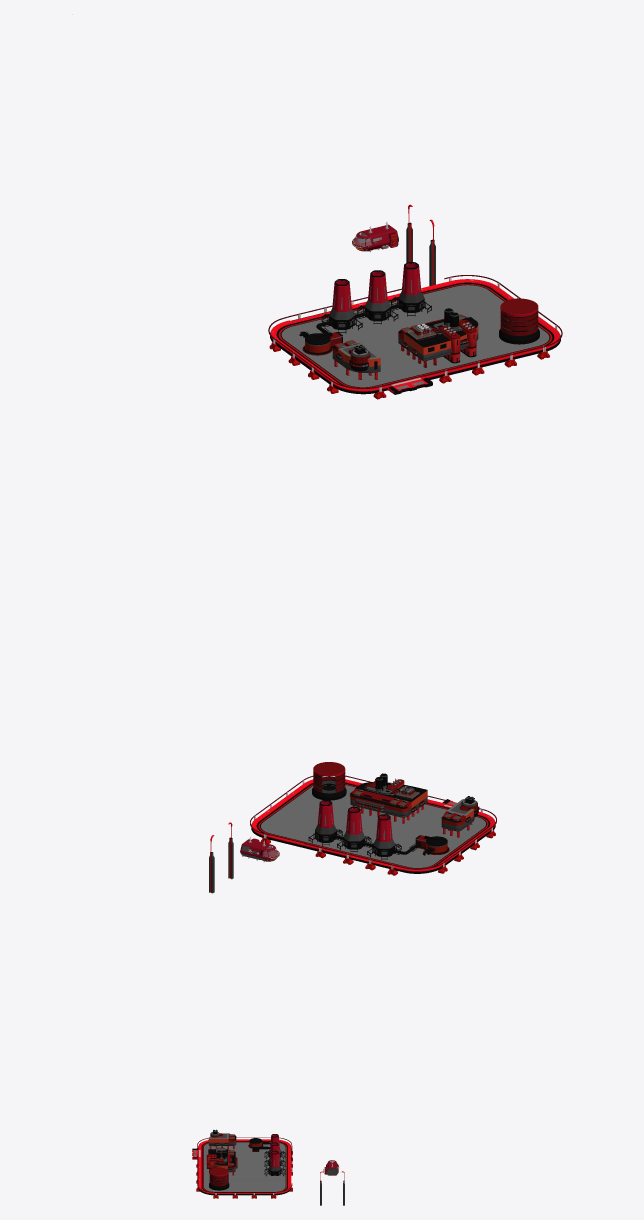
Rendered from khu1.fbx.
The picture shows the model from 3 angles, top to bottom: view 1: azimuth 30°, elevation 25°; view 2: azimuth 150°, elevation 25°; view 3: azimuth 270°, elevation 25°; orthographic projection. The views are drawn at different scales.
Parts seen in each view (by area): view 1: KB3D_MTM_BldgLgPowerStation_A_LandingPad.010, KB3D_MTM_BldgLgPowerStation_A_ChimneyA.032, KB3D_MTM_BldgLgPowerStation_A_MainModuleA.064, KB3D_MTM_BldgLgPowerStation_A_StorageModule.206, KB3D_MTM_BldgLgPowerStation_A_RoofTanksA.005, KB3D_MTM_VehicleRover_A_Door.001; view 2: KB3D_MTM_BldgLgPowerStation_A_LandingPad.010, KB3D_MTM_BldgLgPowerStation_A_ChimneyA.032, KB3D_MTM_BldgLgPowerStation_A_MainModuleA.064, KB3D_MTM_BldgLgPowerStation_A_StorageModule.206, KB3D_MTM_BldgLgPowerStation_A_RoofTanksA.005, KB3D_MTM_VehicleRover_A_Door.001; view 3: KB3D_MTM_BldgLgPowerStation_A_LandingPad.010, KB3D_MTM_BldgLgPowerStation_A_ChimneyA.032, KB3D_MTM_BldgLgPowerStation_A_MainModuleA.064, KB3D_MTM_BldgLgPowerStation_A_StorageModule.206, KB3D_MTM_BldgLgPowerStation_A_RoofTanksA.005.
Part boxes in pixels (bbox=[...]): KB3D_MTM_BldgLgPowerStation_A_LandingPad.010: bbox=[268, 275, 562, 399]; KB3D_MTM_BldgLgPowerStation_A_ChimneyA.032: bbox=[299, 262, 431, 355]; KB3D_MTM_BldgLgPowerStation_A_MainModuleA.064: bbox=[398, 308, 478, 367]; KB3D_MTM_BldgLgPowerStation_A_StorageModule.206: bbox=[499, 298, 539, 344]; KB3D_MTM_BldgLgPowerStation_A_RoofTanksA.005: bbox=[332, 340, 380, 379]; KB3D_MTM_VehicleRover_A_Door.001: bbox=[352, 222, 398, 251]; KB3D_MTM_BldgLgPowerStation_A_LandingPad.010: bbox=[250, 775, 496, 875]; KB3D_MTM_BldgLgPowerStation_A_ChimneyA.032: bbox=[308, 800, 449, 859]; KB3D_MTM_BldgLgPowerStation_A_MainModuleA.064: bbox=[349, 773, 427, 823]; KB3D_MTM_BldgLgPowerStation_A_StorageModule.206: bbox=[312, 762, 346, 800]; KB3D_MTM_BldgLgPowerStation_A_RoofTanksA.005: bbox=[441, 796, 478, 837]; KB3D_MTM_VehicleRover_A_Door.001: bbox=[240, 837, 279, 861]; KB3D_MTM_BldgLgPowerStation_A_LandingPad.010: bbox=[192, 1137, 292, 1198]; KB3D_MTM_BldgLgPowerStation_A_ChimneyA.032: bbox=[248, 1134, 285, 1176]; KB3D_MTM_BldgLgPowerStation_A_MainModuleA.064: bbox=[206, 1146, 237, 1175]; KB3D_MTM_BldgLgPowerStation_A_StorageModule.206: bbox=[209, 1167, 229, 1190]; KB3D_MTM_BldgLgPowerStation_A_RoofTanksA.005: bbox=[208, 1129, 236, 1149].
Size of the model in its own units: 21524 by 19126 by 100224.
